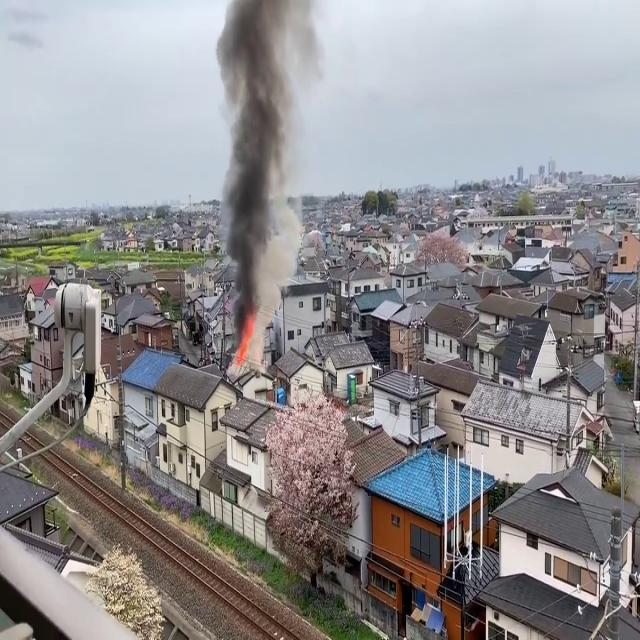Smoke: (212, 0, 310, 338)
